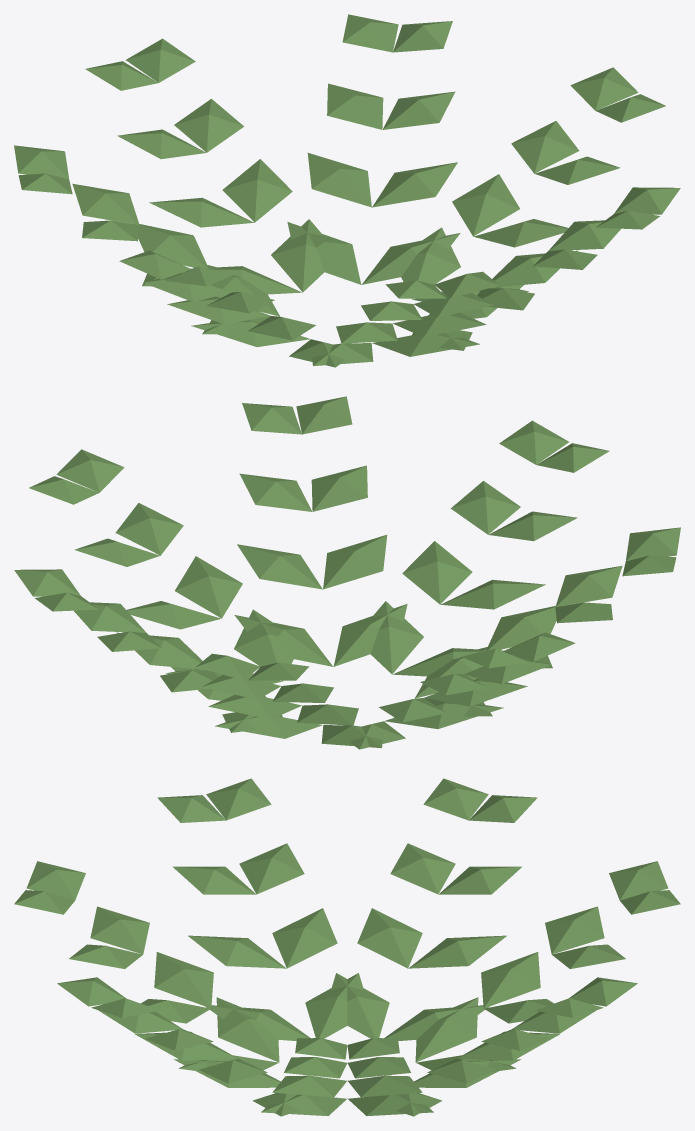
The model's file is fern.glb.
The picture shows the model from 3 angles, top to bottom: view 1: azimuth 30°, elevation 25°; view 2: azimuth 150°, elevation 25°; view 3: azimuth 270°, elevation 25°; orthographic projection.
Visible parts, largest first — view 1: fern; view 2: fern; view 3: fern.
Part boxes in pixels (x1,y1,x2,y2): fern: (14,14,680,367); fern: (14,396,680,749); fern: (14,778,680,1116).
Size of the model in its own units: 1.12 by 0.3036 by 1.15.
